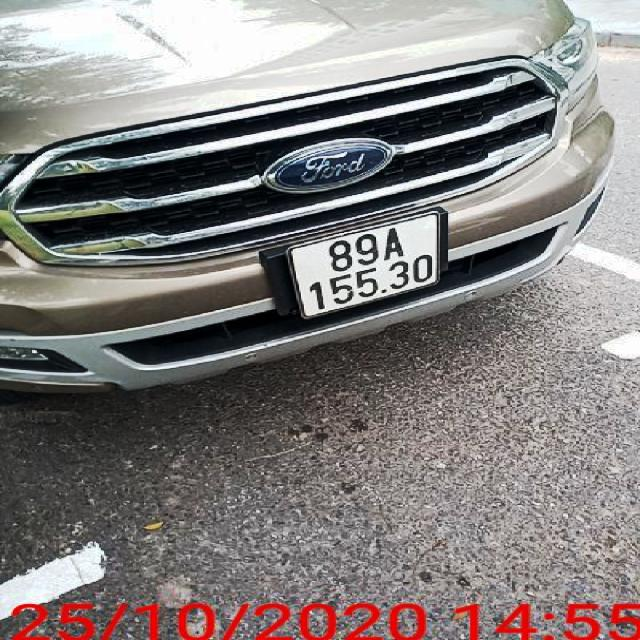license_plate: (287, 210, 441, 318)
